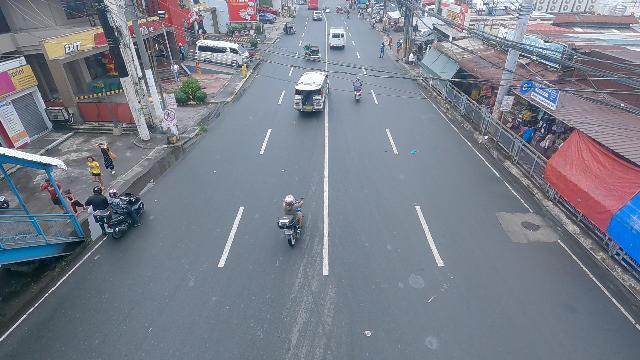car: (312, 10, 323, 21)
jeepney: (291, 69, 329, 117)
motorcycle: (278, 190, 304, 255), (351, 78, 363, 104), (346, 11, 351, 19)
van: (325, 26, 348, 51)
